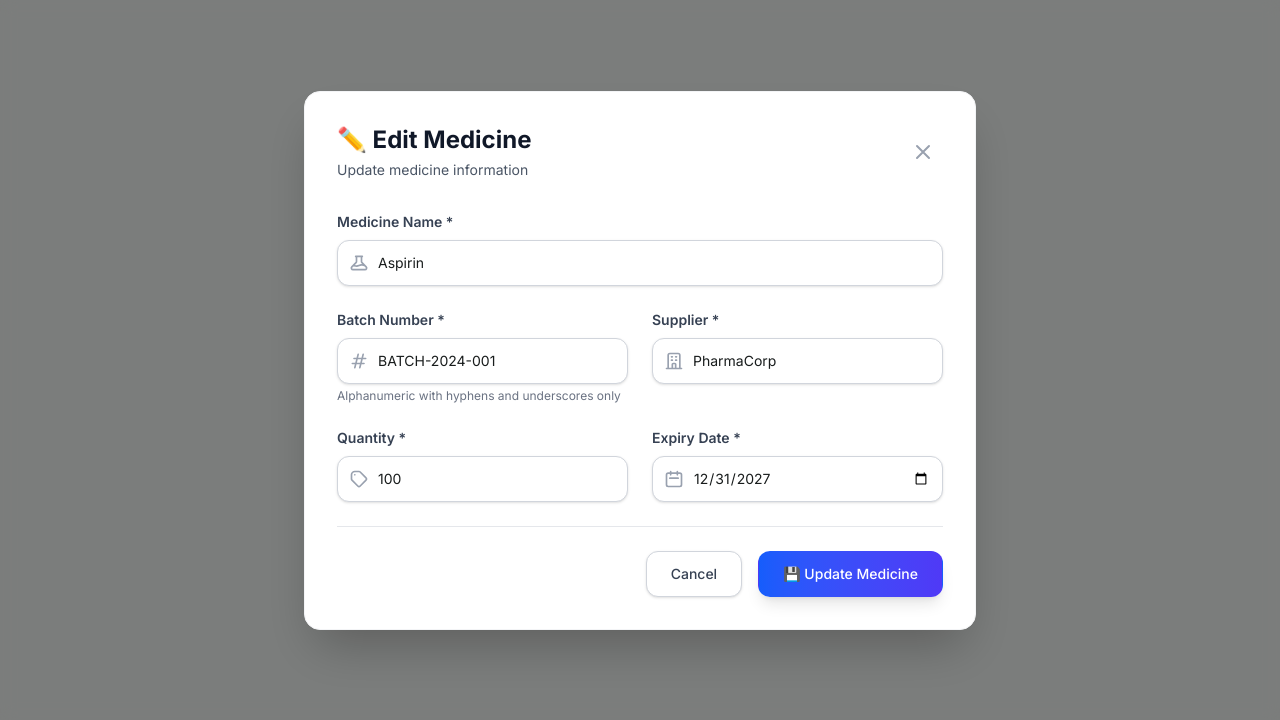
Test: MedicineForm › Form Submission › should not skip batch number uniqueness check in edit mode when batch number changes
Replace the text in the field labelled "Batch Number *" with "BATCH-2024-002": (482, 360) [337, 338, 628, 384]
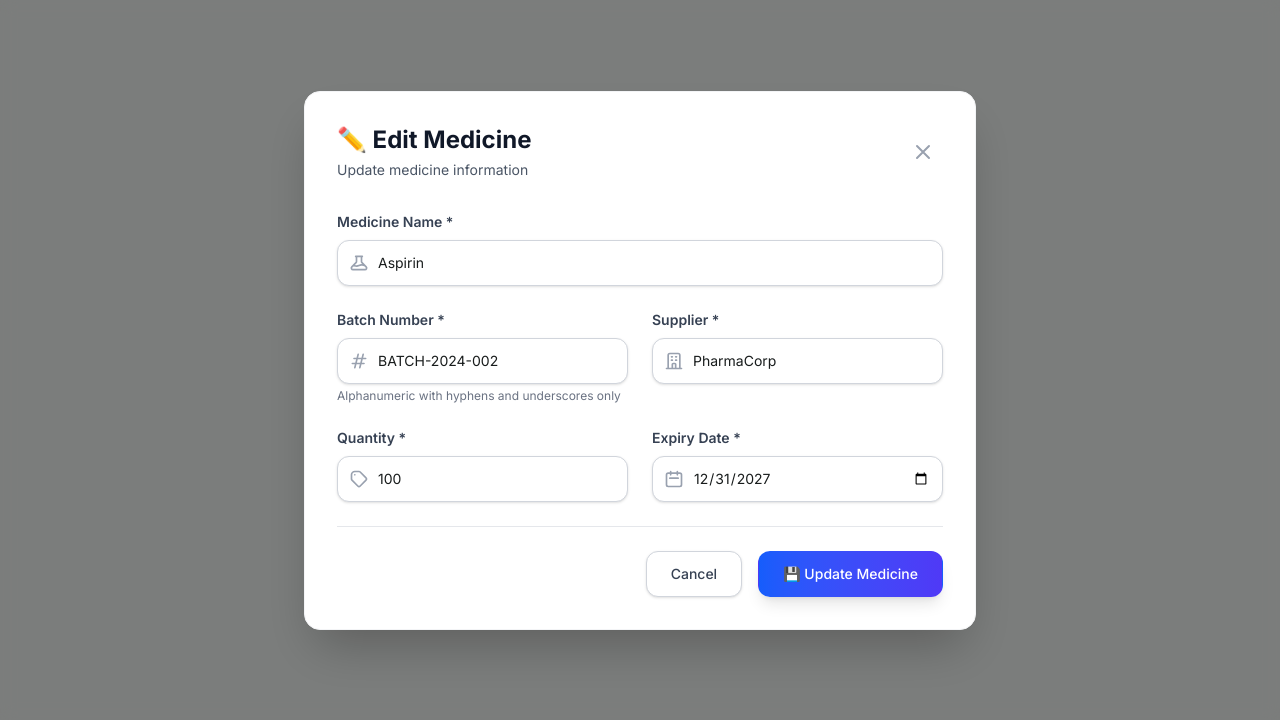
Click the button "💾 Update Medicine": click(851, 574) [758, 550, 943, 596]
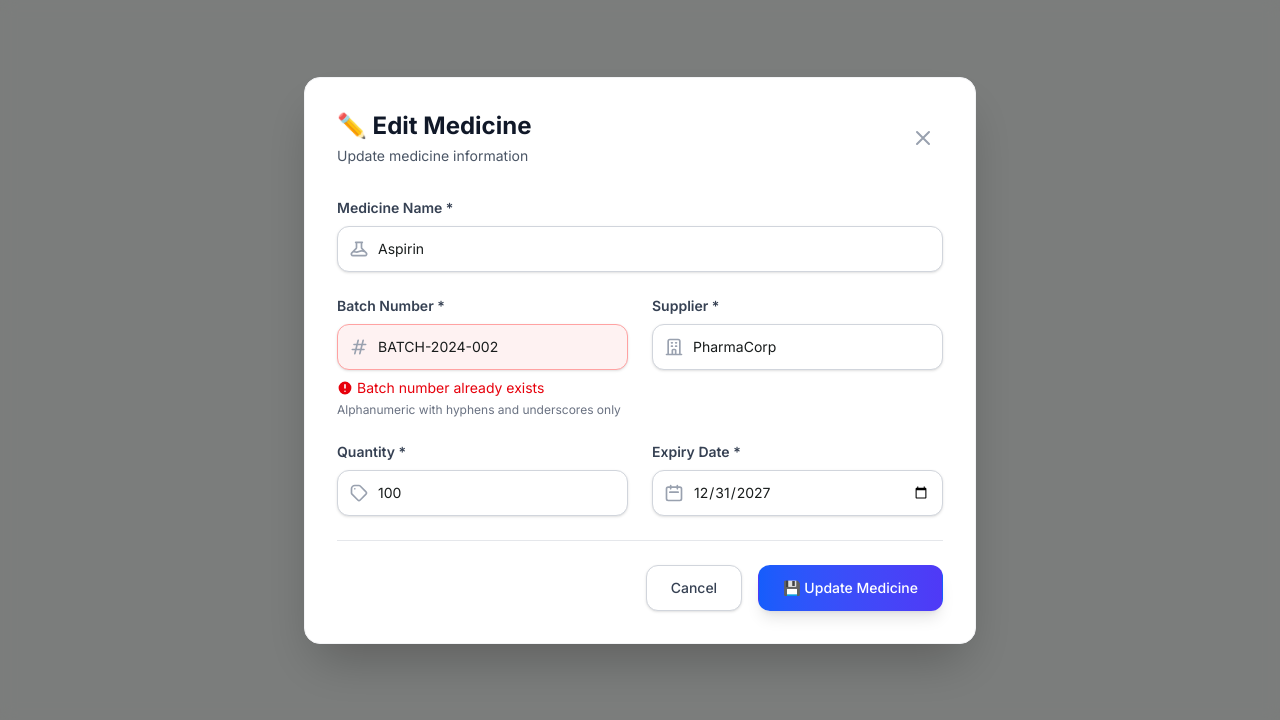
Expected: the text "Batch number already exists" is shown, [337, 378, 544, 396]
